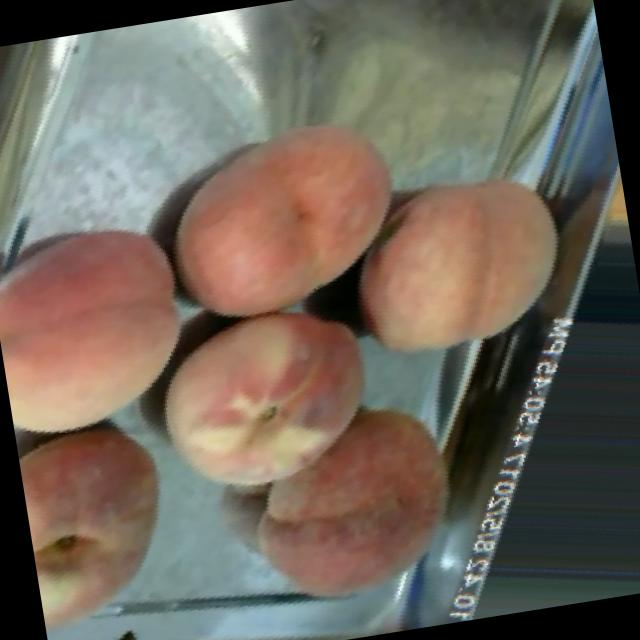Fruit: (212, 364, 499, 640), (128, 82, 436, 334), (322, 133, 606, 403), (0, 181, 232, 458), (133, 294, 406, 522), (13, 405, 194, 640)
